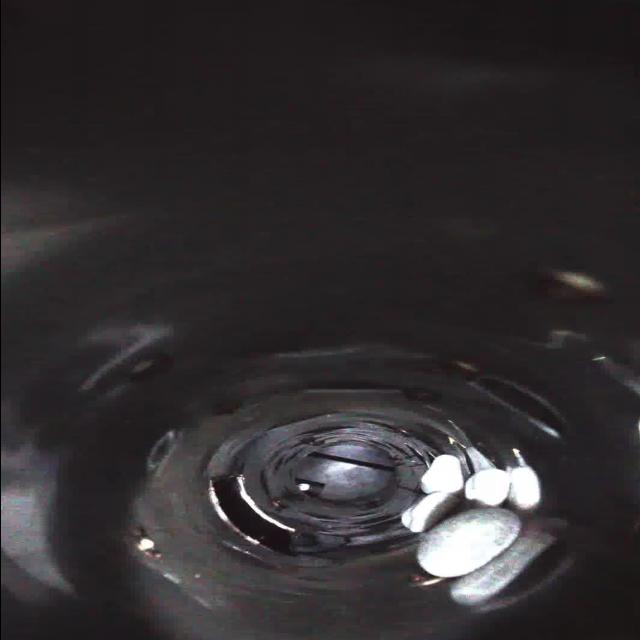crack: (288, 416, 368, 441), (350, 510, 410, 540), (396, 442, 448, 476), (255, 472, 291, 512), (256, 448, 300, 478), (296, 508, 340, 536)
hole: (204, 476, 304, 558)
